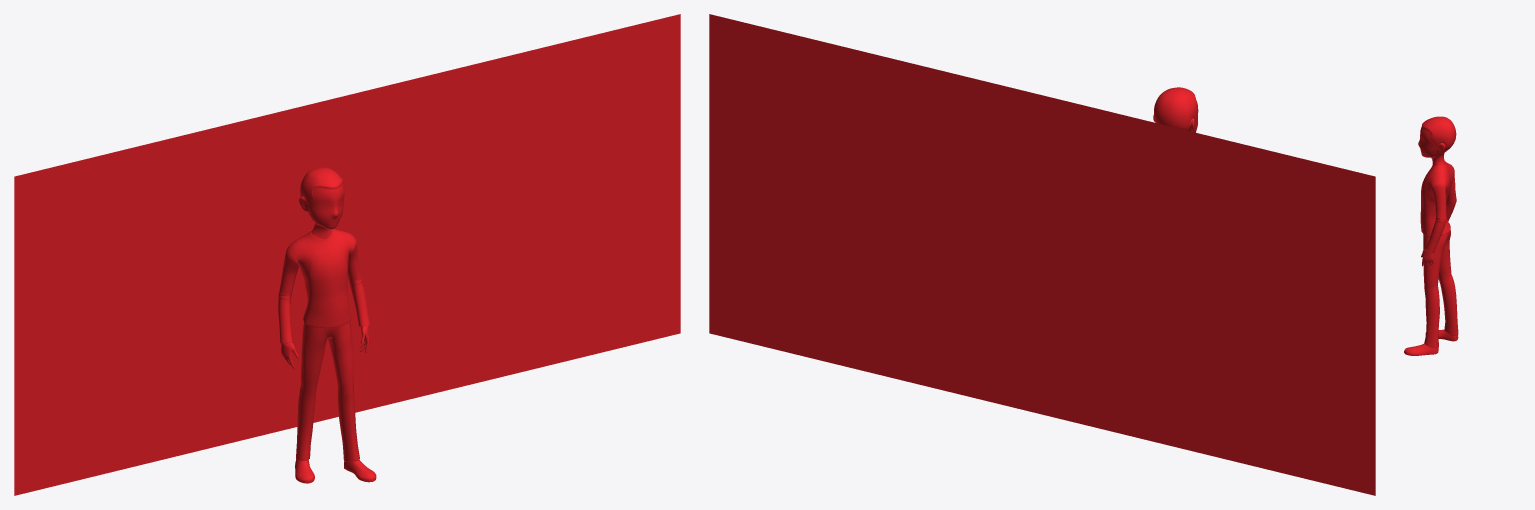
The model's file is stickman.glb.
3 renders of one model, left to right at view 1: azimuth 30°, elevation 25°; view 2: azimuth 150°, elevation 25°; view 3: azimuth 270°, elevation 25°, orthographic. The views are drawn at different scales.
Visible parts, largest first — view 1: mesh_id1, mesh_id27; view 2: mesh_id1, mesh_id27; view 3: mesh_id27.
Boxes of the visible parts, box(x1,y1,x2,y2) form: mesh_id1: box(14, 14, 680, 495); mesh_id27: box(278, 167, 376, 483); mesh_id1: box(709, 14, 1375, 495); mesh_id27: box(1153, 87, 1198, 132); mesh_id27: box(1404, 116, 1458, 355).
Size of the model in its own units: 1.28 by 0.588 by 0.2608.
Materials: 2 (2 with a texture image).
